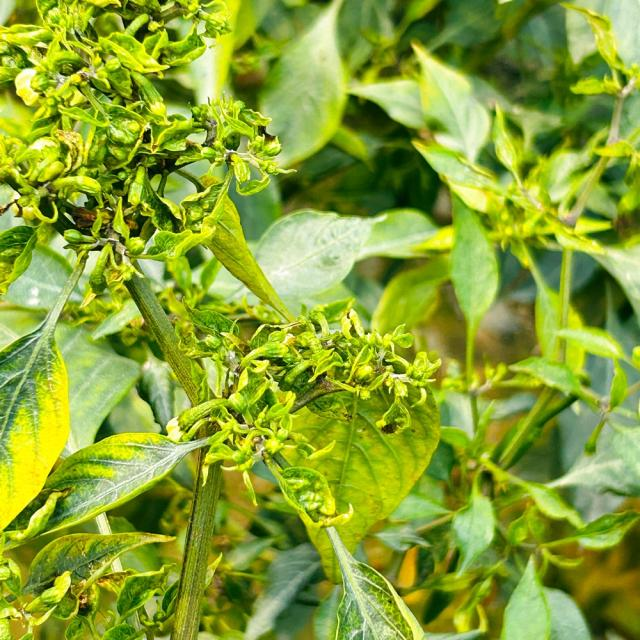Chilli_Leaf_Curl: (1, 1, 638, 638), (0, 0, 296, 317), (168, 298, 443, 636), (0, 244, 90, 532), (24, 429, 218, 539), (322, 523, 426, 639)
